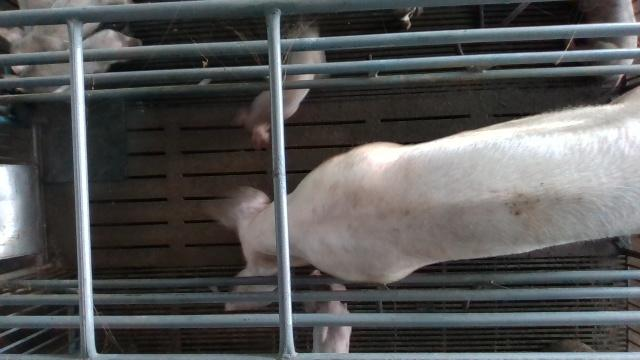piglet: (229, 24, 330, 152), (0, 0, 136, 74), (0, 28, 142, 93), (564, 0, 638, 97), (304, 270, 353, 353)
sow-stand: (199, 83, 640, 310)
